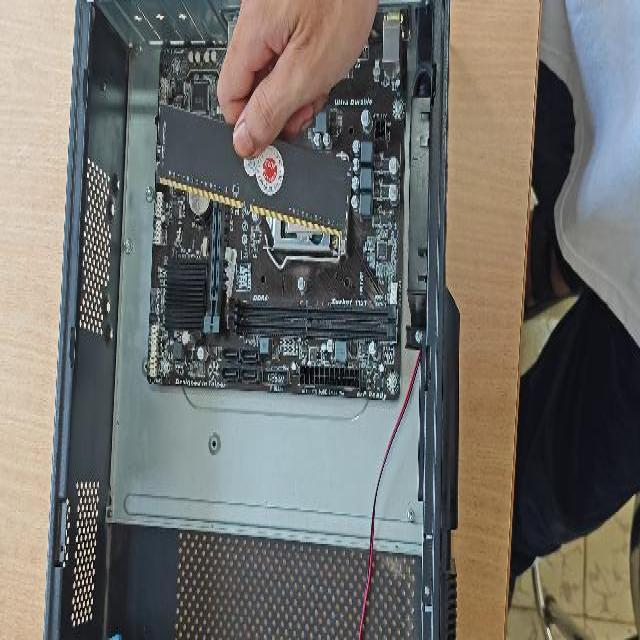Mainboard: (147, 32, 404, 400)
RAM: (154, 100, 353, 243)
